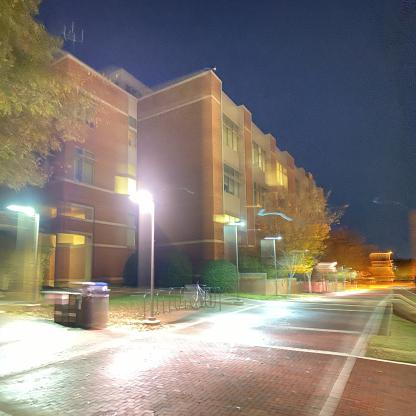eb3: (34, 36, 366, 270)
